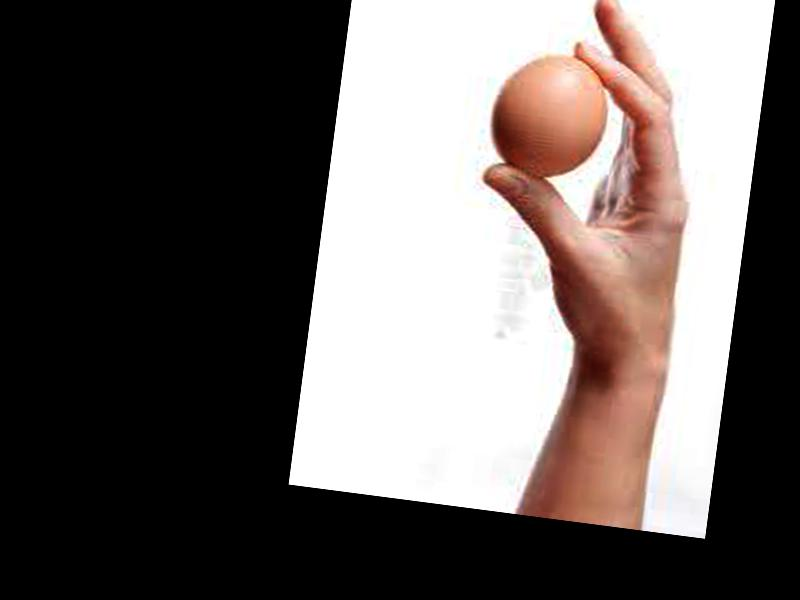Eggs: (486, 48, 611, 186)
